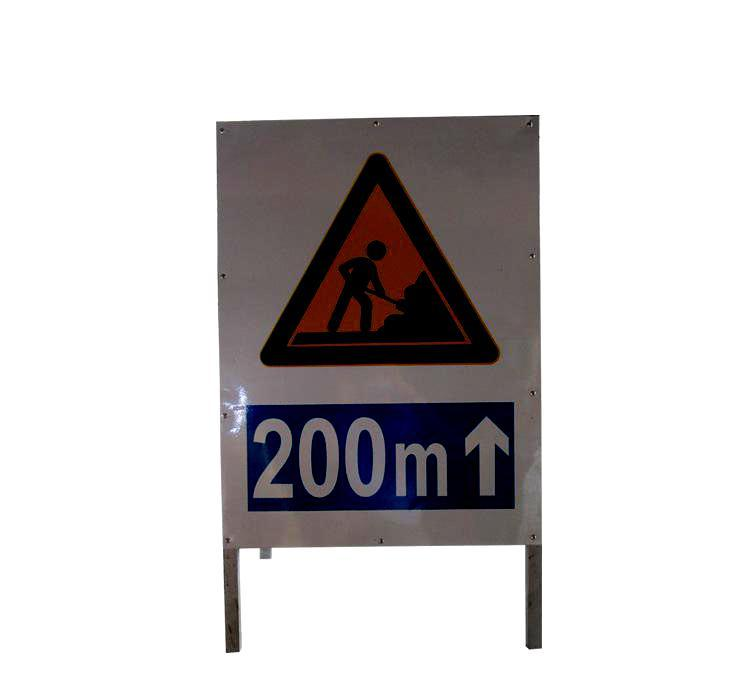sign: (222, 125, 536, 530)
